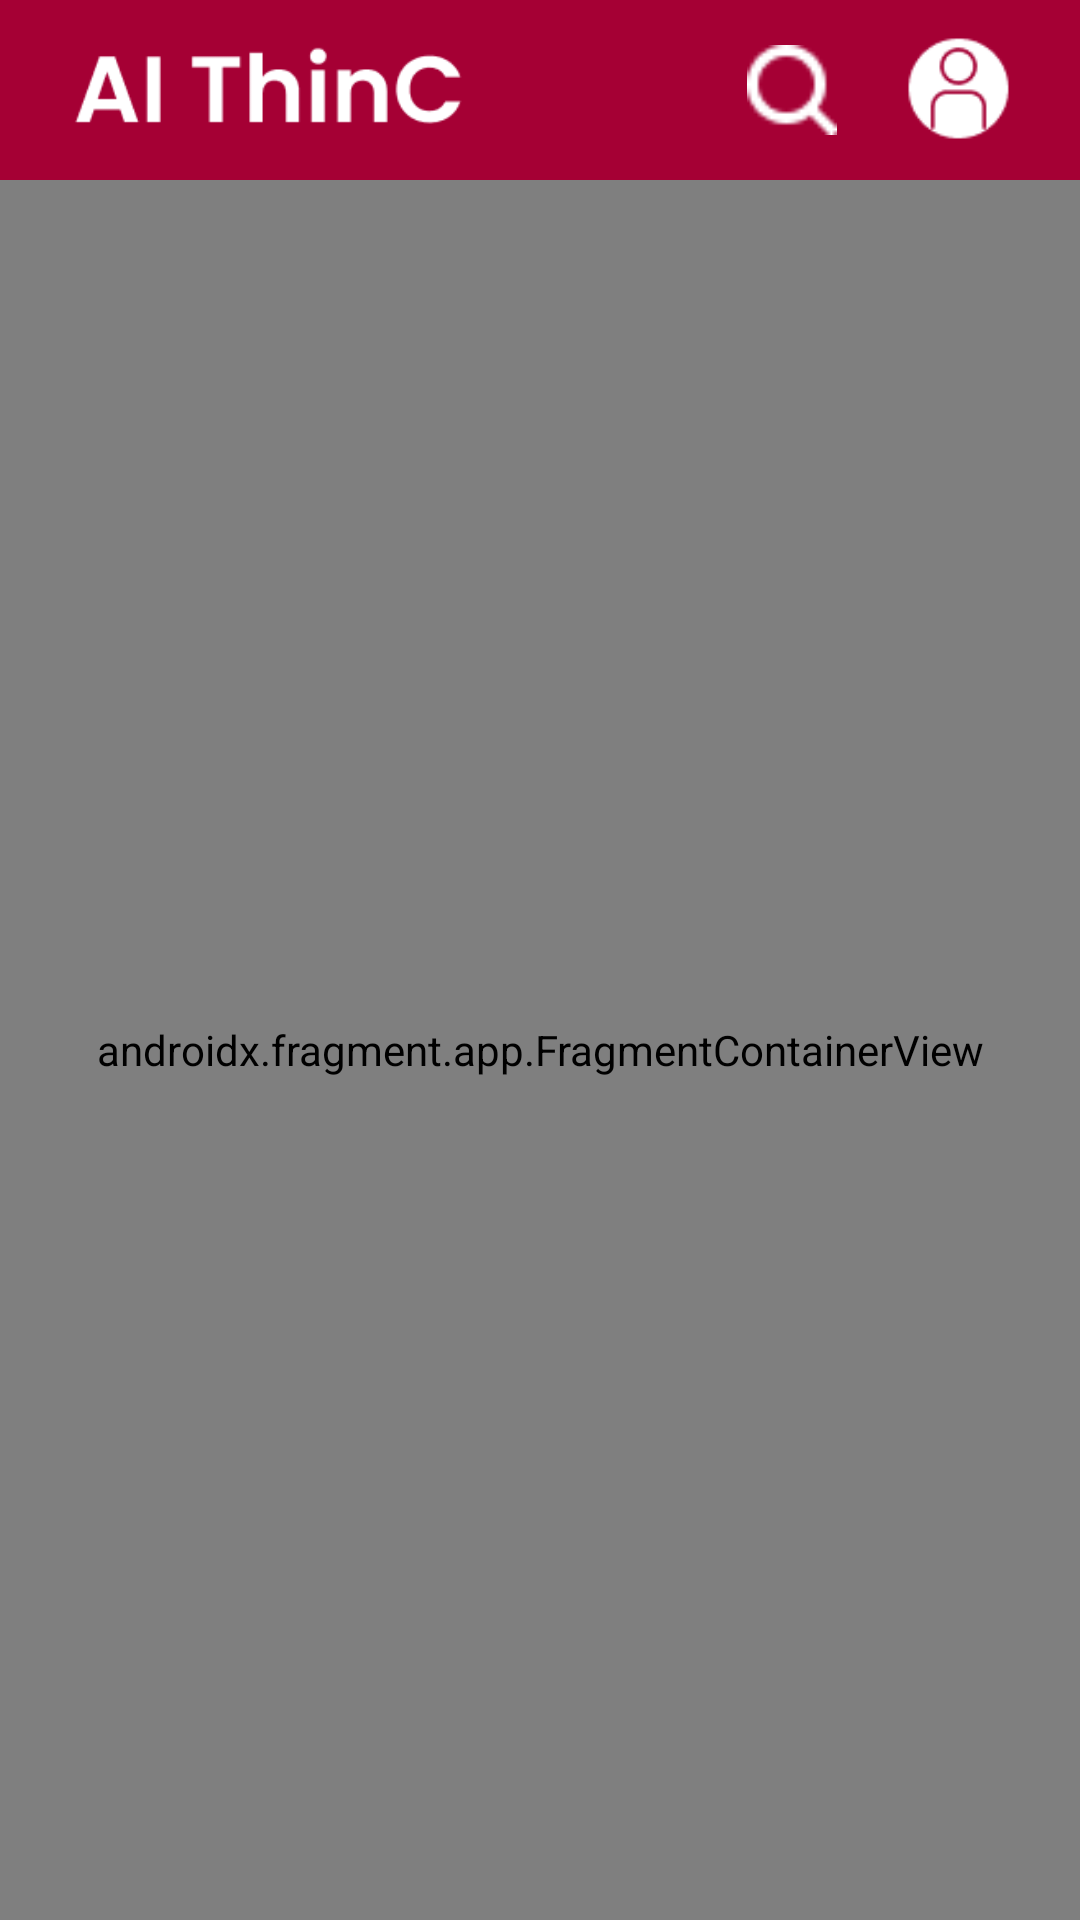

Named icons in this screenshot (1080*1920) and their centers, (x=x, y=y):
search: (x=792, y=90)
